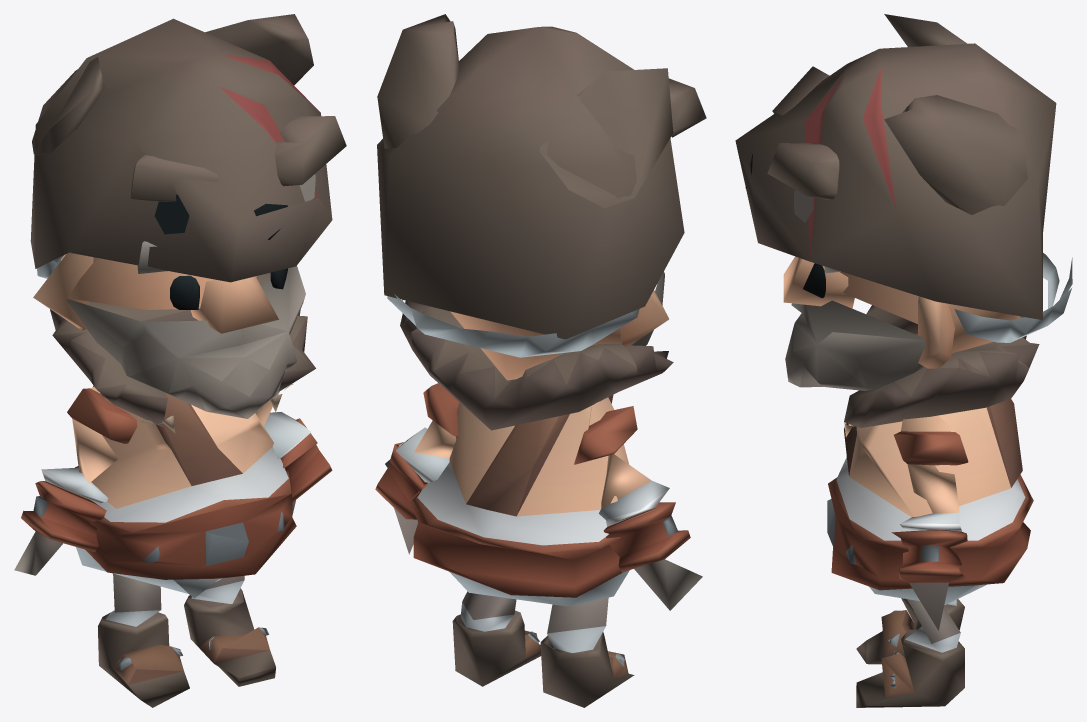
The model's file is soldier-5.glb.
3 renders of one model, left to right at view 1: azimuth 30°, elevation 25°; view 2: azimuth 150°, elevation 25°; view 3: azimuth 270°, elevation 25°, orthographic. The views are drawn at different scales.
Parts seen in each view (by area): view 1: soldier:5; view 2: soldier:5; view 3: soldier:5.
Boxes of the visible parts, x1,y1,x2,y2 form: soldier:5: (14, 14, 346, 707); soldier:5: (375, 14, 706, 707); soldier:5: (735, 14, 1072, 707).
Size of the model in its own units: 0.6406 by 1.3 by 0.6389.
Materials: 1 (1 with a texture image).
